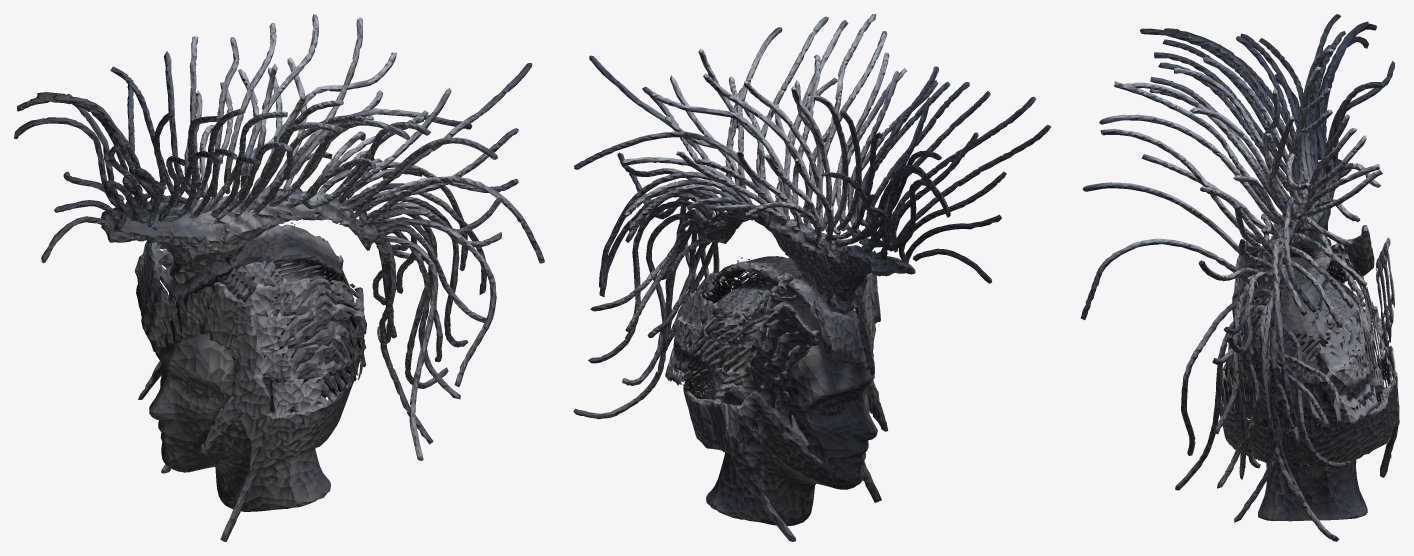
The model's file is female_helmet.glb.
3 renders of one model, left to right at view 1: azimuth 30°, elevation 25°; view 2: azimuth 150°, elevation 25°; view 3: azimuth 270°, elevation 25°, orthographic. The views are drawn at different scales.
Size of the model in its own units: 2.29 by 2.22 by 1.46.
1 material, 1 textured.
